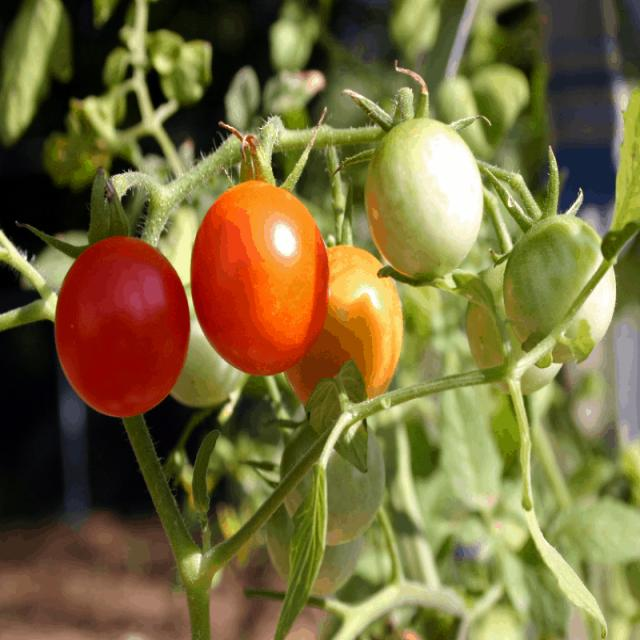level 2: (510, 220, 621, 366), (282, 413, 386, 552), (470, 262, 571, 387)
level 3: (368, 113, 481, 282)
level 4: (292, 243, 402, 412)
level 5: (190, 180, 330, 376)
level 6: (55, 237, 194, 420)
